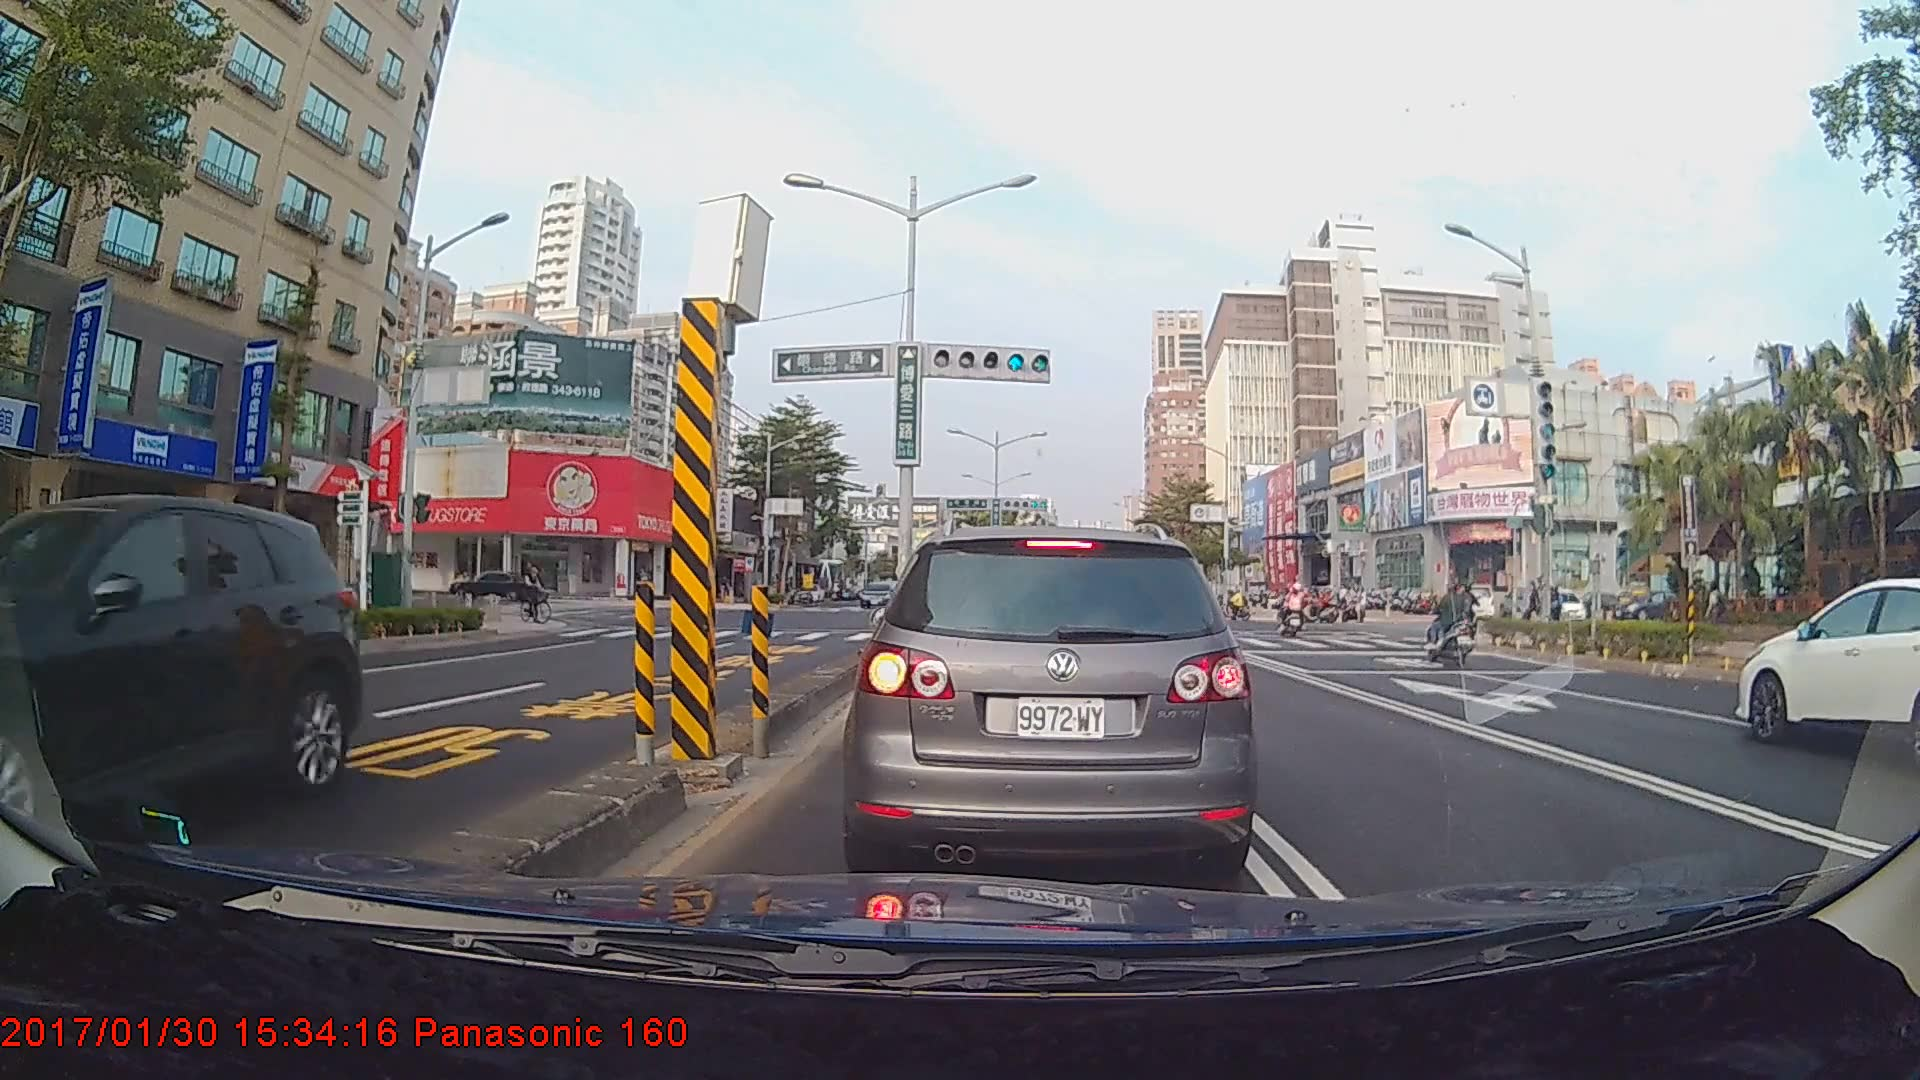pedestrian: (1705, 582, 1727, 642)
rider: (1425, 580, 1482, 666), (518, 559, 561, 629), (1449, 582, 1479, 646), (1279, 581, 1309, 642)
vehicle: (853, 521, 1252, 885), (0, 492, 358, 850), (1737, 575, 1920, 756), (447, 568, 541, 601), (857, 581, 896, 608)
